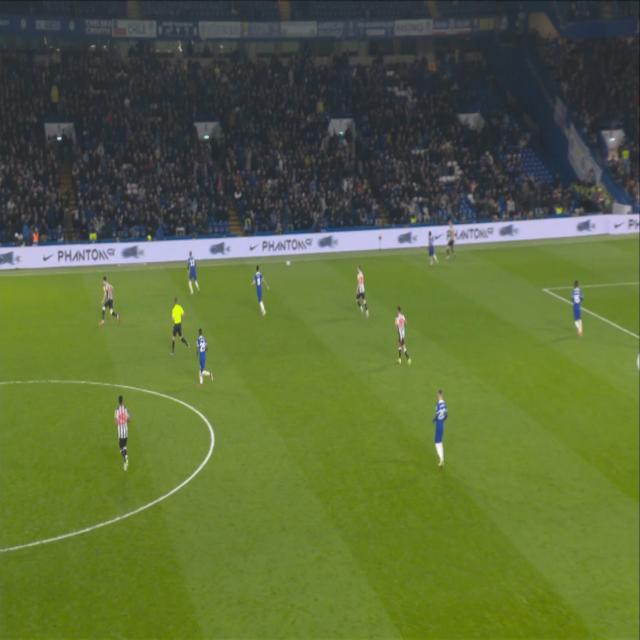Ball: (285, 254, 294, 272)
Chelsea: (429, 384, 451, 471), (192, 322, 215, 389), (248, 260, 270, 318), (568, 274, 586, 338), (183, 246, 204, 300), (426, 227, 438, 271)
New castle: (111, 390, 134, 476), (391, 302, 415, 370), (95, 272, 122, 329), (354, 261, 372, 320)
Refree: (167, 291, 191, 358)
